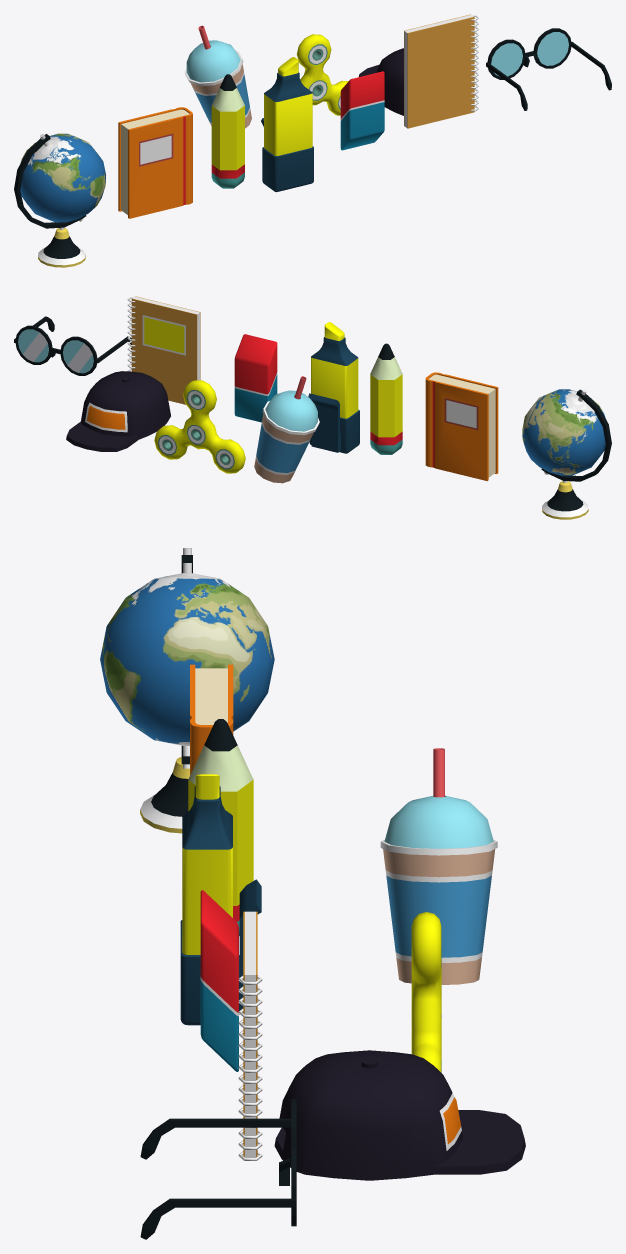
Rendered from items_update.fbx.
3 renders of one model, top to bottom at view 1: azimuth 30°, elevation 25°; view 2: azimuth 150°, elevation 25°; view 3: azimuth 270°, elevation 25°, orthographic. The views are drawn at different scales.
Visible parts, largest first — view 1: globe, book, notebook, highlighter, pencil, shake, glasses, eraser, spinner, cap; view 2: globe, book, cap, notebook, highlighter, shake, spinner, eraser, pencil, glasses; view 3: cap, globe, shake, highlighter, eraser, pencil, spinner, notebook, glasses, book.
Part boxes in pixels (x1=…): globe: x1=14, y1=133, x2=105, y2=267; book: x1=118, y1=107, x2=192, y2=218; notebook: x1=404, y1=14, x2=478, y2=128; highlighter: x1=261, y1=57, x2=313, y2=192; pencil: x1=211, y1=74, x2=244, y2=188; shake: x1=184, y1=25, x2=251, y2=128; glasses: x1=486, y1=28, x2=611, y2=110; eraser: x1=340, y1=71, x2=384, y2=150; spinner: x1=296, y1=34, x2=348, y2=115; cap: x1=359, y1=48, x2=403, y2=115; globe: x1=522, y1=389, x2=611, y2=519; book: x1=425, y1=372, x2=498, y2=481; cap: x1=66, y1=371, x2=170, y2=451; notebook: x1=127, y1=296, x2=200, y2=404; highlighter: x1=308, y1=322, x2=359, y2=453; shake: x1=254, y1=376, x2=319, y2=483; spinner: x1=154, y1=380, x2=245, y2=473; eraser: x1=234, y1=334, x2=277, y2=422; pencil: x1=370, y1=343, x2=402, y2=454; glasses: x1=14, y1=316, x2=131, y2=375; cap: x1=274, y1=1050, x2=525, y2=1180; globe: x1=100, y1=548, x2=274, y2=833; shake: x1=380, y1=748, x2=497, y2=984; highlighter: x1=180, y1=774, x2=261, y2=1025; eraser: x1=200, y1=890, x2=238, y2=1071; pencil: x1=188, y1=719, x2=253, y2=935; spinner: x1=411, y1=912, x2=441, y2=1072; notebook: x1=238, y1=911, x2=262, y2=1160; glasses: x1=140, y1=1099, x2=296, y2=1239; book: x1=190, y1=664, x2=233, y2=775.
Bounding box in the file's own units: 1.87 × 0.4177 × 0.604.
Materials: 2 (2 with a texture image).
